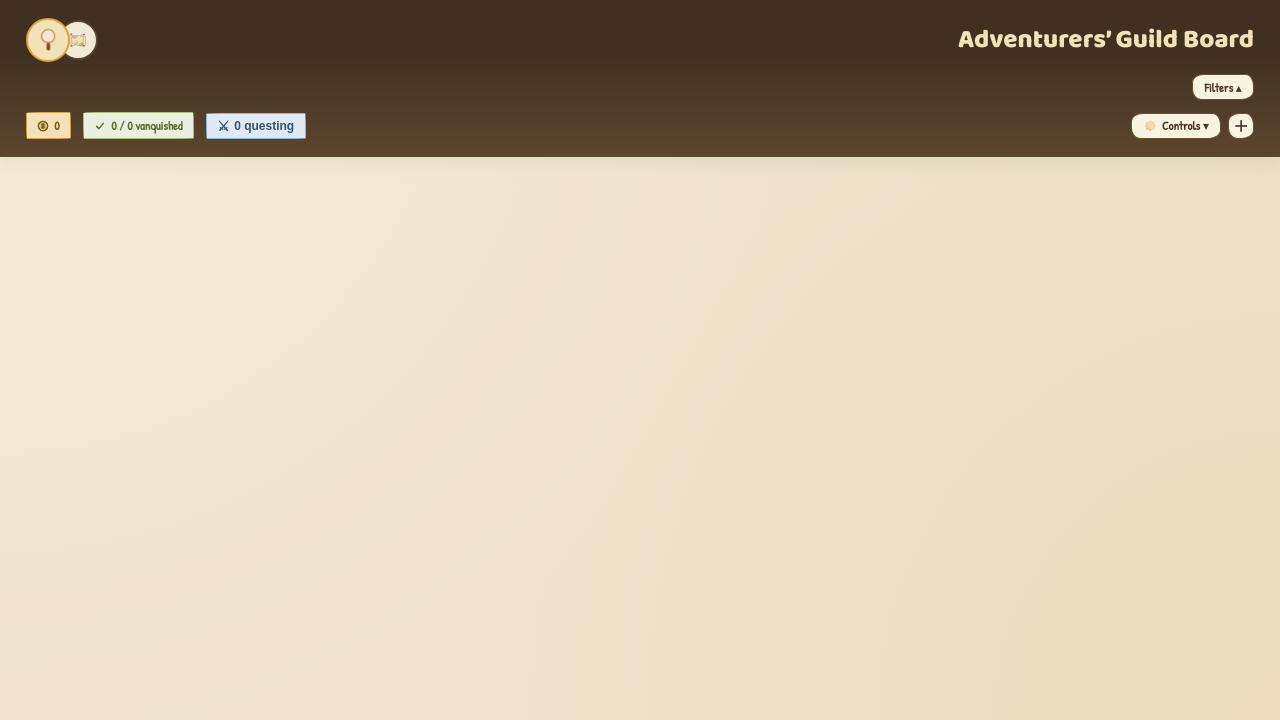
Test: <TopBar/> › renders no Label colors dialog until the Labels settings button is clicked
What coordinates should you click on to do the following:
click the button "Controls ▾"
I would click on:
 (1176, 126)
Its box is left=1131, top=113, right=1221, bottom=139.
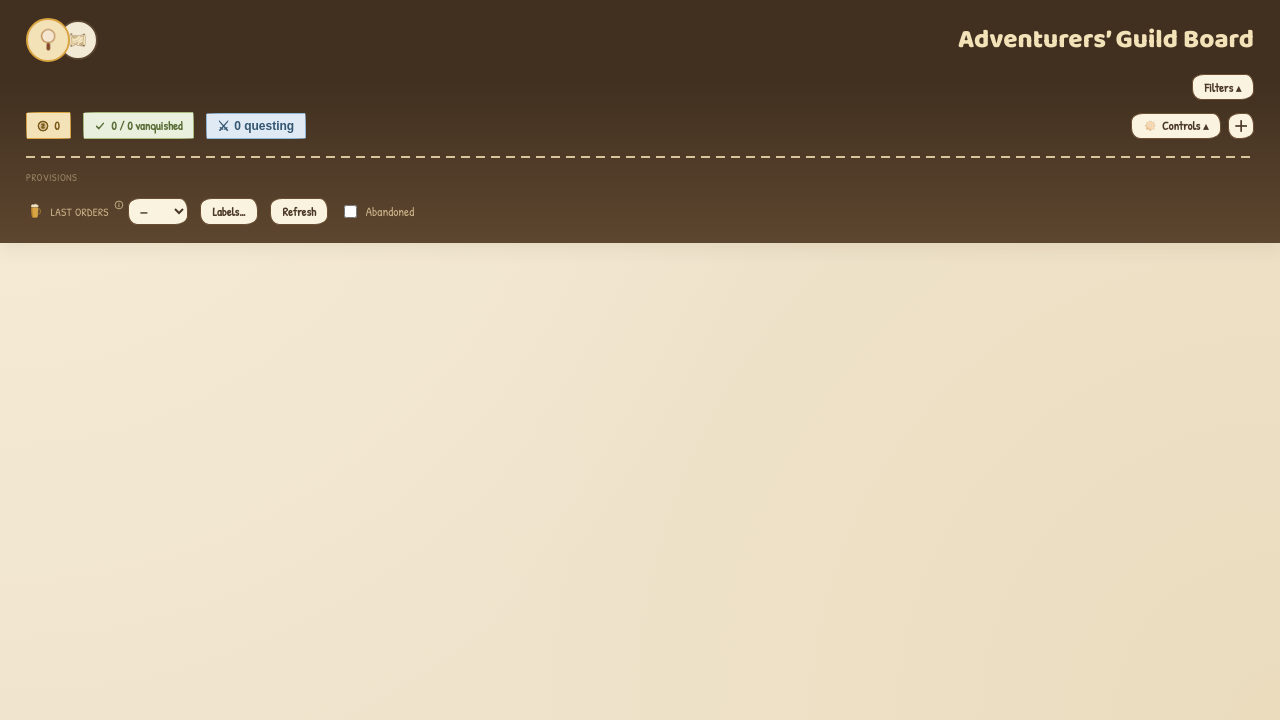
Check: the button "Labels…" is shown, box left=200, top=198, right=258, bottom=225
